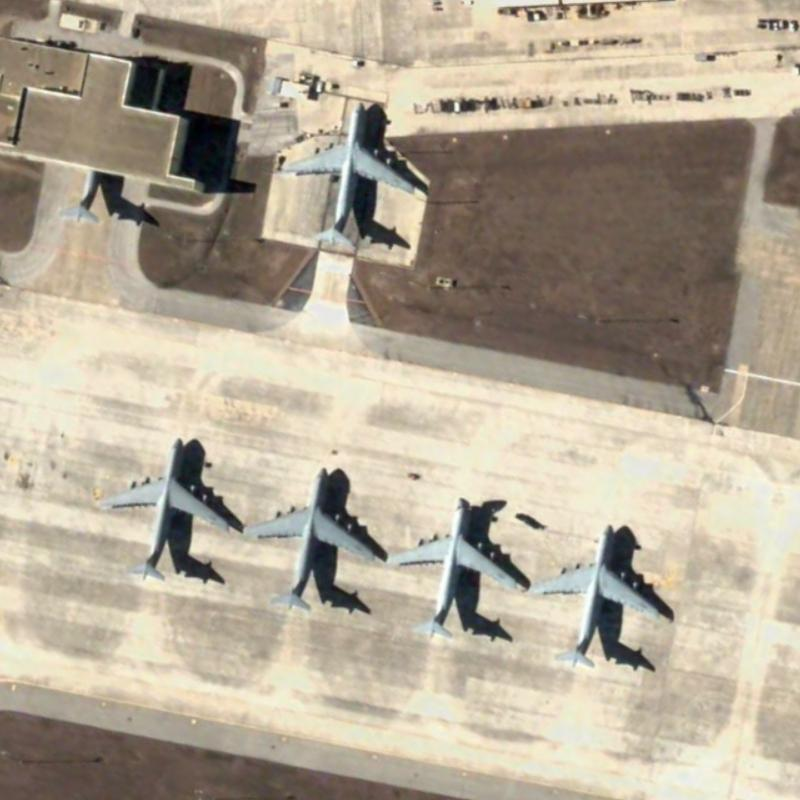A4: (270, 90, 425, 253), (382, 484, 527, 640), (242, 457, 381, 617), (529, 514, 668, 674), (93, 424, 233, 582)
